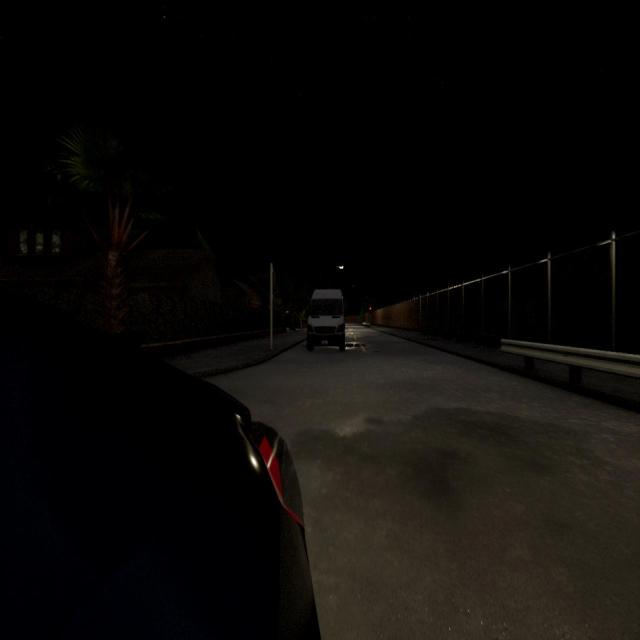Vehicle: (0, 286, 320, 637), (305, 289, 349, 352)
traffic_light: (369, 307, 372, 314)
